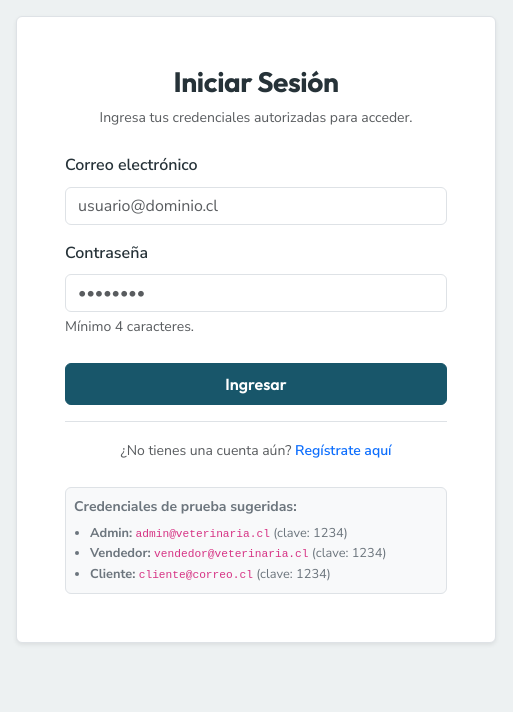
it: Página Login › muestra error cuando el correo no es válido
Type "hernan" into the field labelled "Correo electrónico".
click(256, 206); type("hernan")  # box [65,187,447,225]
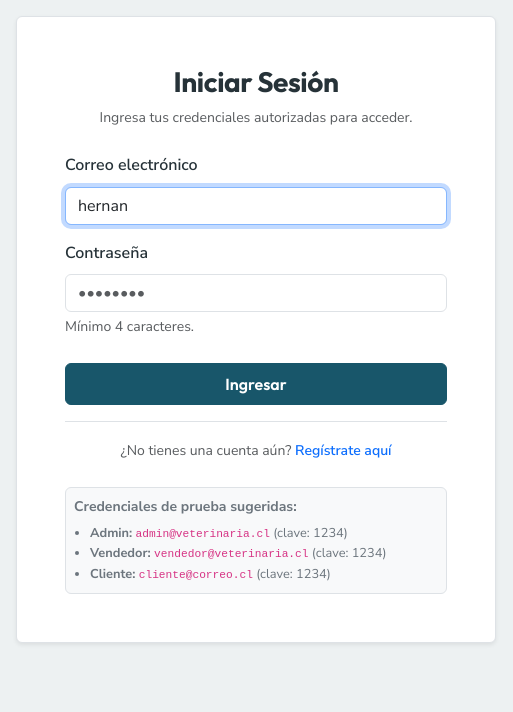
Type "12345" into the password field labelled "Contraseña".
click(256, 293); type("12345")  # box [65,274,447,312]
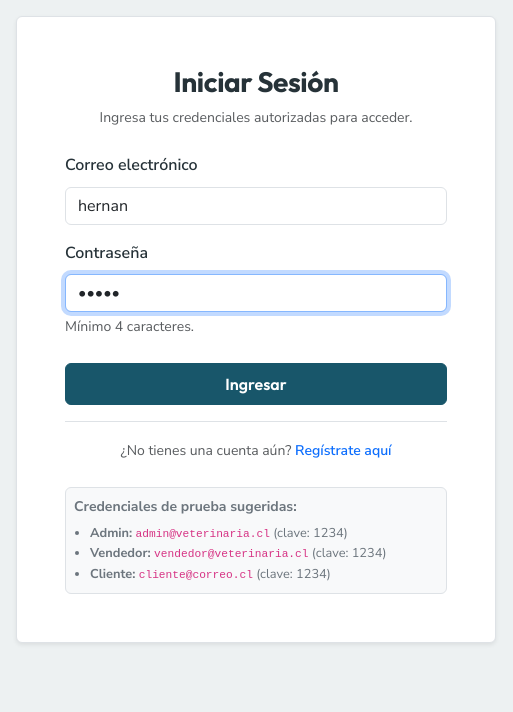
Click the button "Ingresar".
click(256, 384)  # box [65,363,447,405]
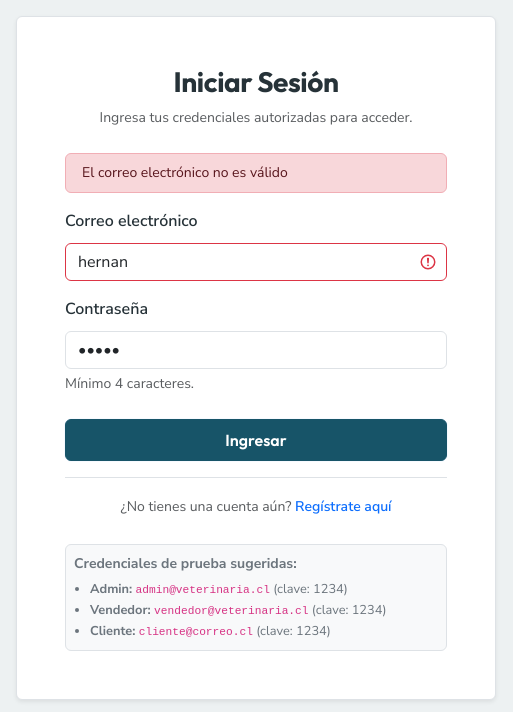
Result: the text "El correo electrónico no es válido" is shown at [65,153,447,193]
